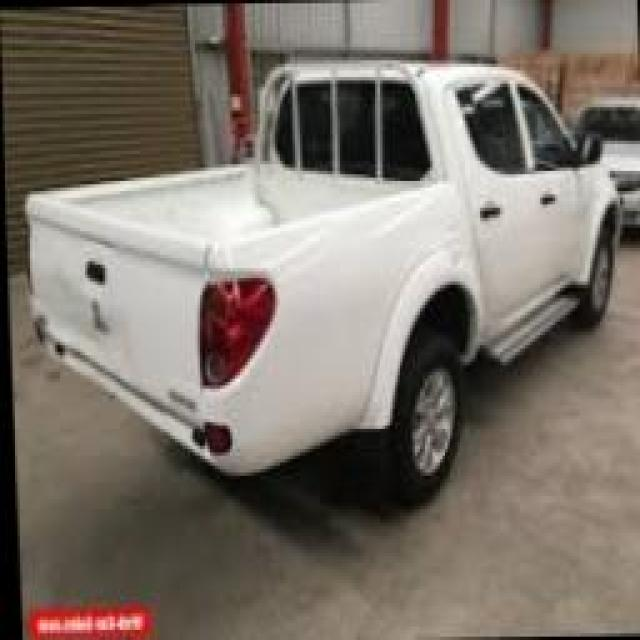Dickey: (18, 271, 79, 355)
